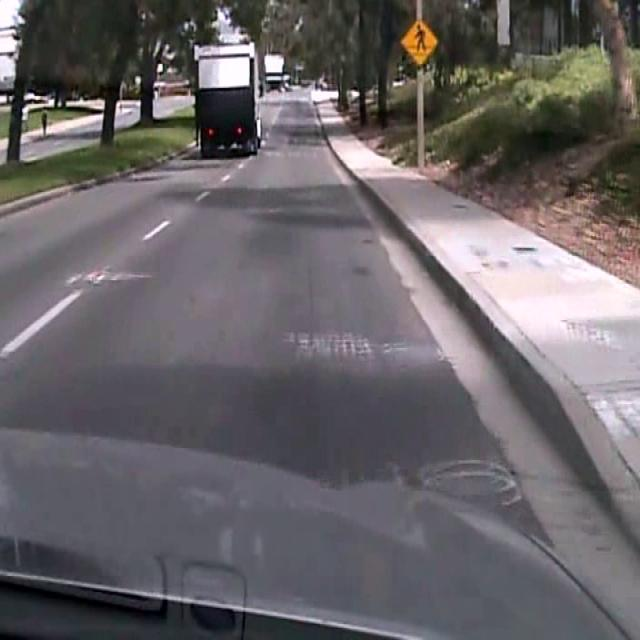pedestrianCrossing: (399, 16, 438, 65)
